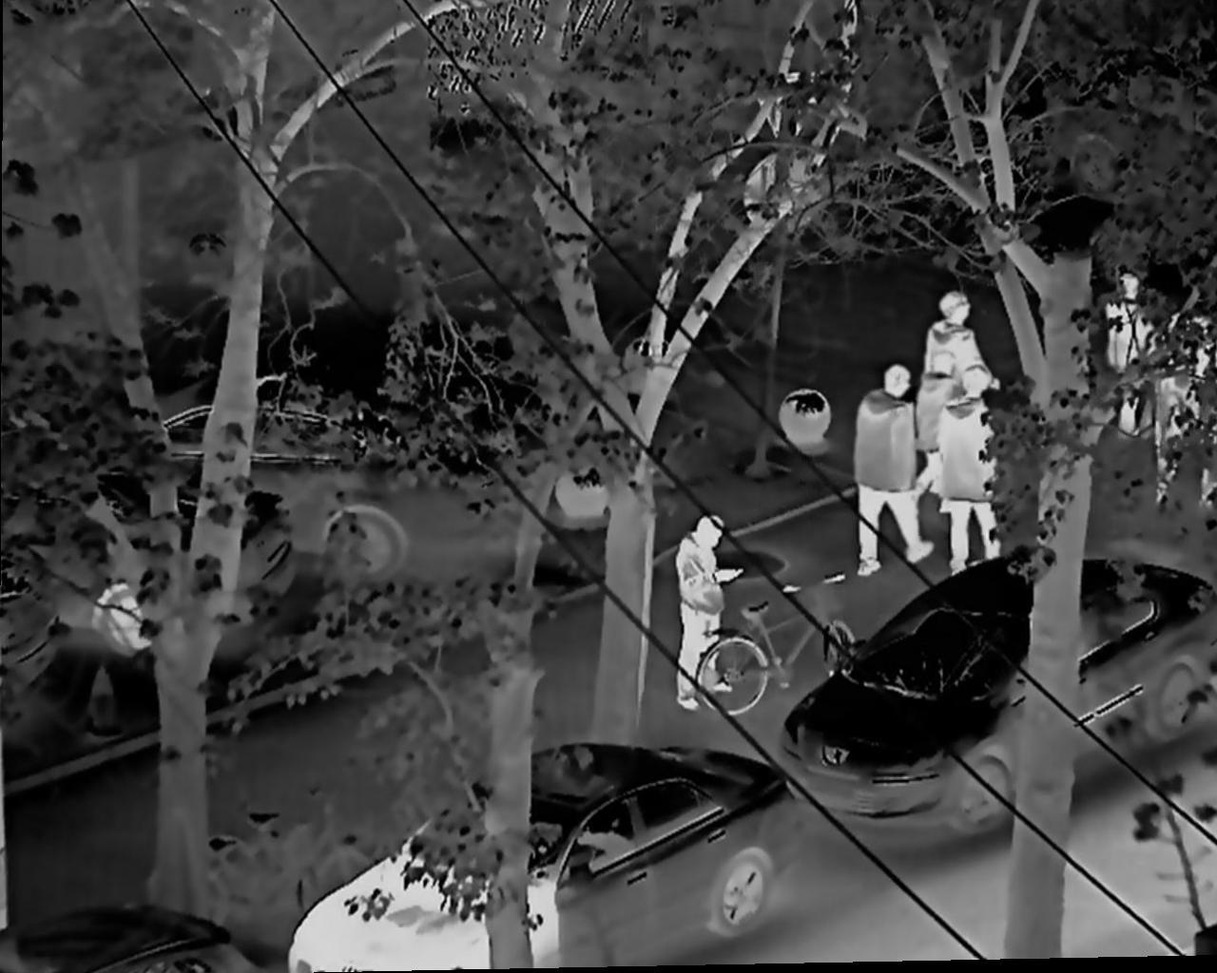person: (853, 362, 933, 577), (674, 514, 743, 713), (940, 365, 1004, 576), (923, 287, 1001, 393)
